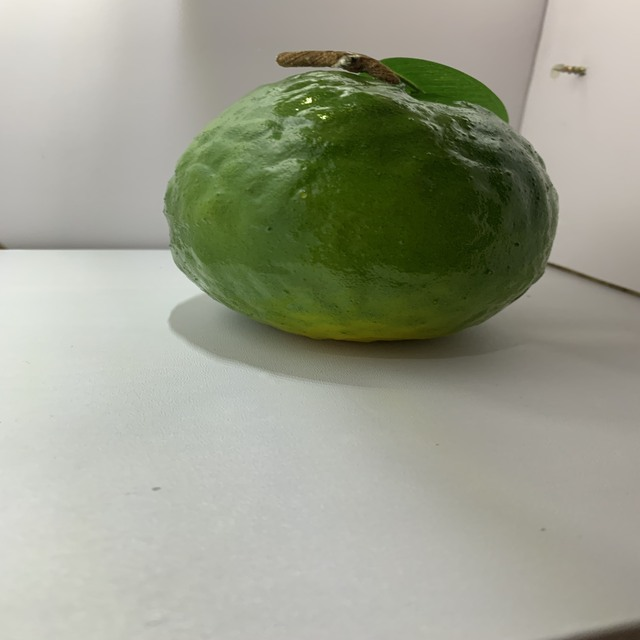Cam xanh: (159, 54, 564, 356)
